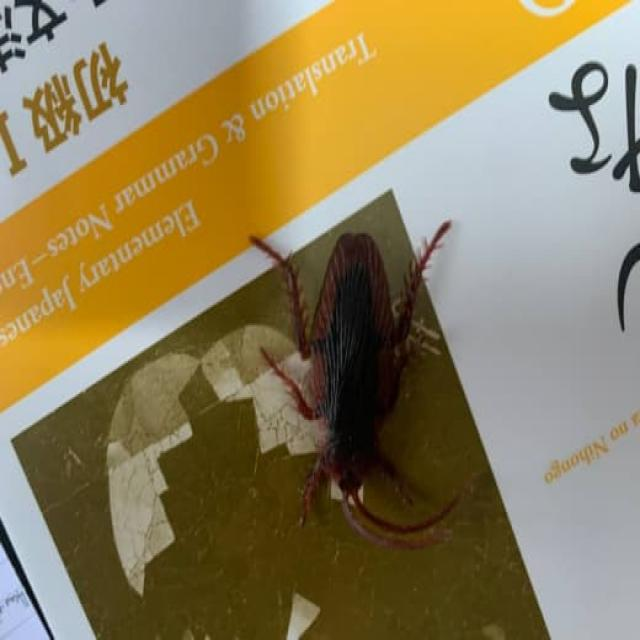Cockroach: (243, 184, 470, 558)
